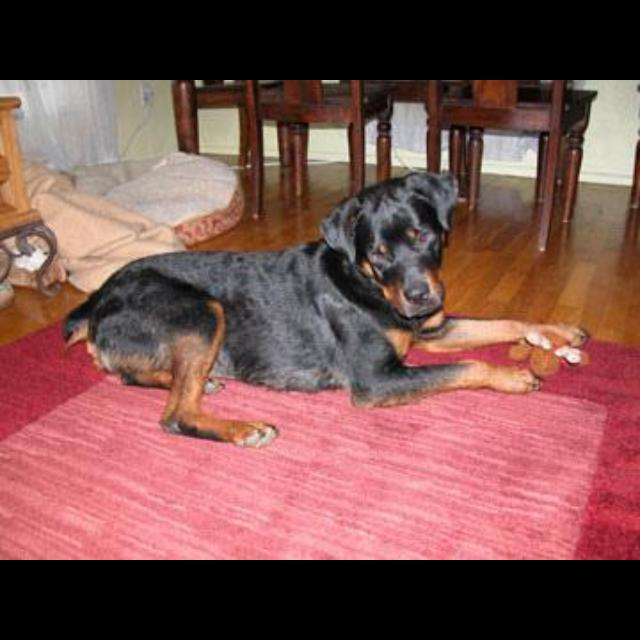rottweiler: (62, 169, 591, 449)
